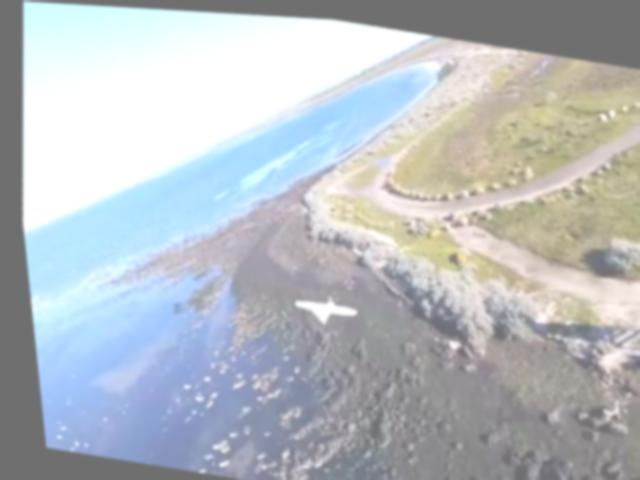uav: (286, 290, 356, 328)
